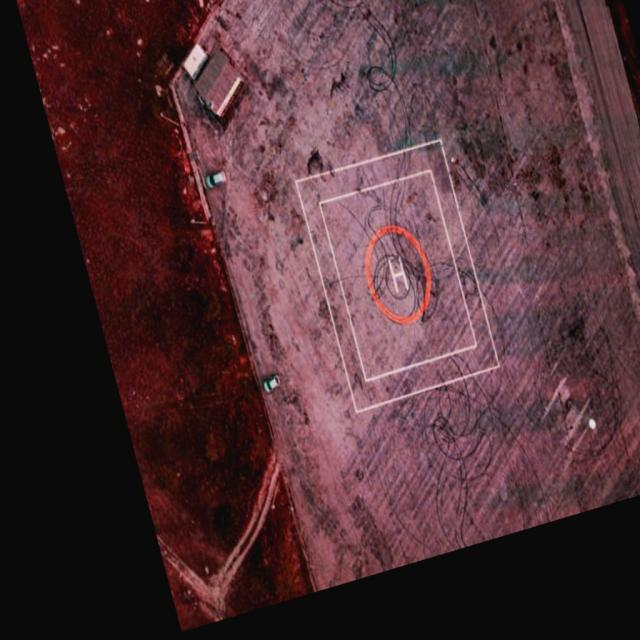helipad: (362, 221, 432, 326)
